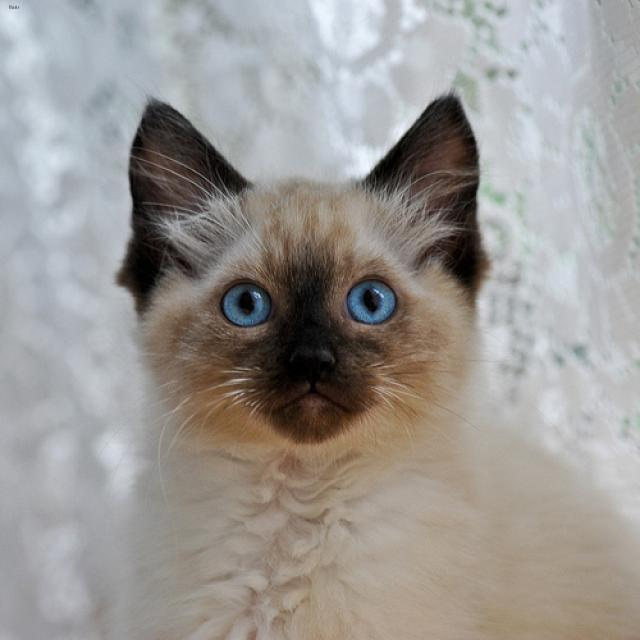Ragdoll: (118, 81, 496, 468)
